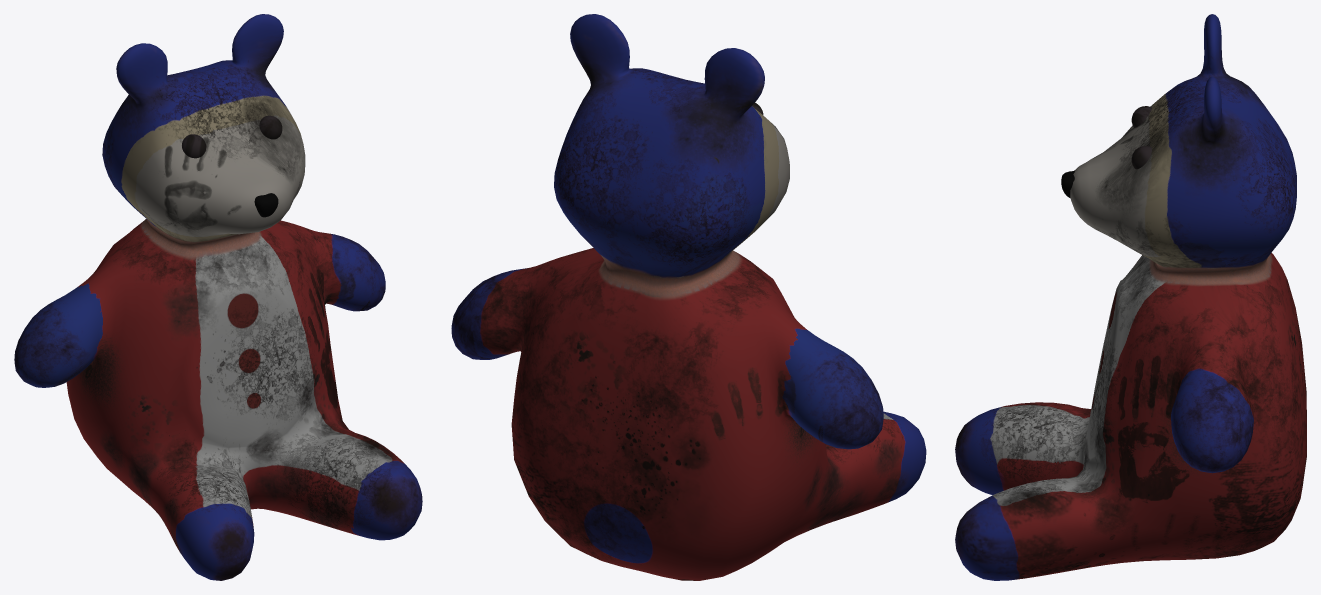
File: teddie_bear_dirty.glb
3 renders of one model, left to right at view 1: azimuth 30°, elevation 25°; view 2: azimuth 150°, elevation 25°; view 3: azimuth 270°, elevation 25°, orthographic. The views are drawn at different scales.
Parts seen in each view (by area): view 1: TeddyBear; view 2: TeddyBear; view 3: TeddyBear.
Part boxes in pixels (x1,y1,x2,y2): TeddyBear: [14, 14, 422, 580]; TeddyBear: [451, 14, 926, 580]; TeddyBear: [955, 14, 1306, 580].
Size of the model in its own units: 2.04 by 2.45 by 1.59.
1 material, 1 textured.
